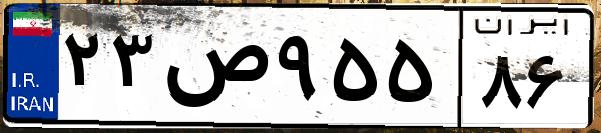2: (57, 26, 110, 100)
3: (110, 28, 158, 98)
5: (385, 28, 445, 110), (330, 28, 385, 110)
6: (525, 38, 570, 115)
8: (475, 38, 525, 113)
9: (270, 28, 330, 110)
ص: (158, 20, 270, 120)
